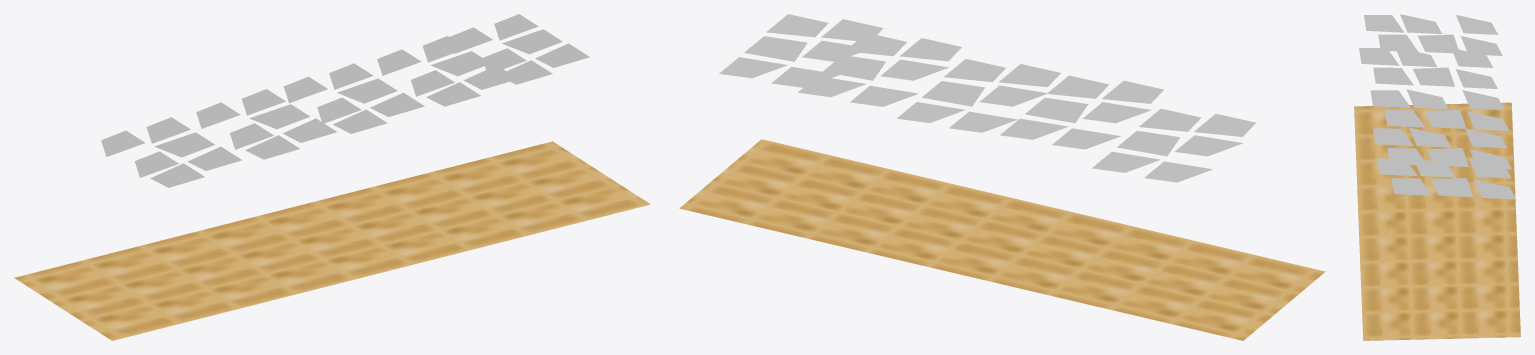
File: world.dae
3 views of the same model, side by side, from view 1: azimuth 30°, elevation 25°; view 2: azimuth 150°, elevation 25°; view 3: azimuth 270°, elevation 25° (orthographic). The views are drawn at different scales.
Parts seen in each view (by area): view 1: ground, ice_001, ice_013, ice_010, ice_025, ice_022, ice_002, ice_009, ice_015, ice_014, ice_027, ice_003 (+19 smaller); view 2: ground, ice_025, ice_013, ice_001, ice_010, ice_022, ice_014, ice_003, ice_027, ice_008, ice_009, ice_020 (+19 smaller); view 3: ground, ice_010, ice_001, ice_025, ice_013, ice_022, ice_027, ice_009, ice_020, ice_003, ice_026, ice_008 (+19 smaller).
Boxes of the visible parts, x1,y1,x2,y2 form: ground: (14, 141, 650, 340); ice_001: (337, 78, 397, 103); ice_013: (154, 132, 214, 157); ice_010: (249, 104, 309, 129); ice_025: (502, 29, 562, 54); ice_022: (430, 51, 484, 76); ice_002: (370, 92, 424, 117); ice_009: (282, 118, 337, 142); ice_015: (150, 163, 204, 187); ice_014: (187, 146, 241, 170); ice_027: (498, 60, 552, 84); ice_003: (333, 109, 387, 133); ground: (679, 139, 1325, 340); ice_025: (744, 36, 807, 61); ice_013: (1117, 130, 1180, 156); ice_001: (922, 81, 985, 106); ice_010: (1025, 97, 1088, 123); ice_022: (823, 56, 885, 80); ice_014: (1139, 108, 1200, 131); ice_003: (999, 64, 1060, 87); ice_027: (821, 19, 883, 42); ice_008: (1102, 80, 1163, 103); ice_009: (1047, 75, 1109, 98); ice_020: (900, 38, 961, 61); ground: (1354, 102, 1520, 340); ice_010: (1413, 67, 1454, 86); ice_001: (1424, 109, 1466, 128); ice_025: (1431, 178, 1473, 197); ice_013: (1418, 34, 1458, 53); ice_022: (1427, 148, 1468, 166); ice_027: (1377, 158, 1417, 176); ice_009: (1373, 67, 1413, 85); ice_020: (1373, 128, 1413, 145); ice_003: (1370, 90, 1410, 107); ice_026: (1391, 178, 1431, 195); ice_008: (1359, 48, 1399, 65).
Size of the model in its own units: 549 by 163 by 138.
2 materials, 1 textured.
